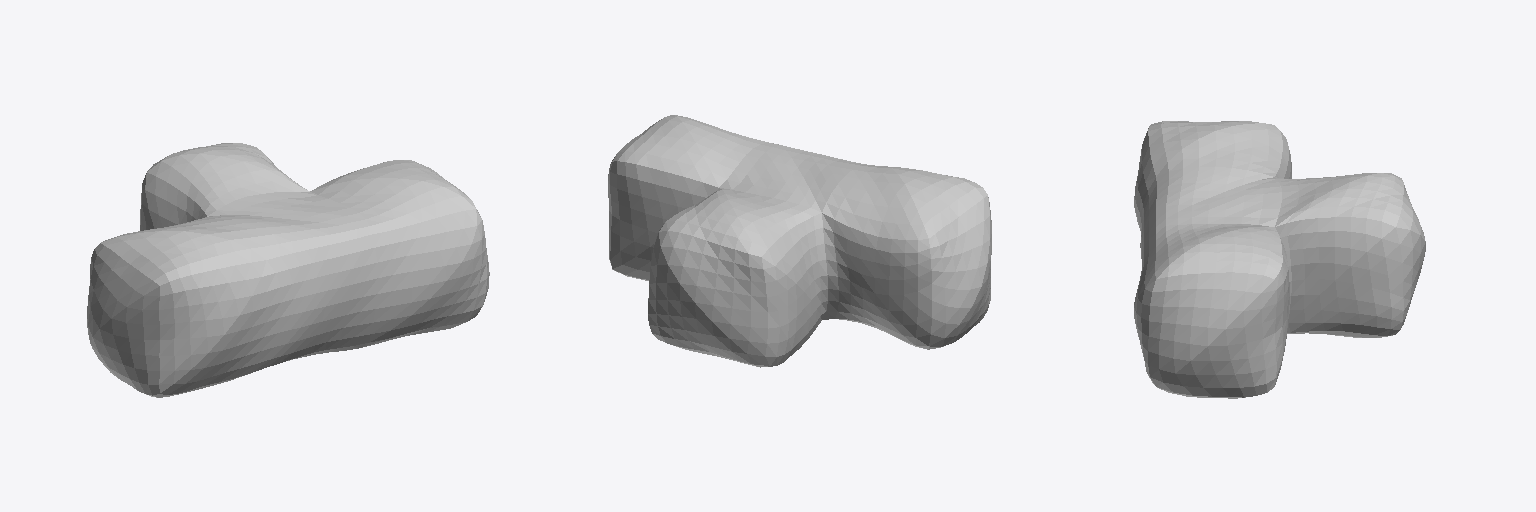
The model's file is finomitott.obj.
3 views of the same model, side by side, from view 1: azimuth 30°, elevation 25°; view 2: azimuth 150°, elevation 25°; view 3: azimuth 270°, elevation 25° (orthographic).
Parts seen in each view (by area): view 1: finom; view 2: finom; view 3: finom.
Boxes of the visible parts, box(x1,y1,x2,y2) form: finom: box(87, 143, 489, 397); finom: box(608, 115, 991, 367); finom: box(1134, 121, 1425, 398).
Bounding box in the file's own units: 7.2 × 2.75 × 4.93.